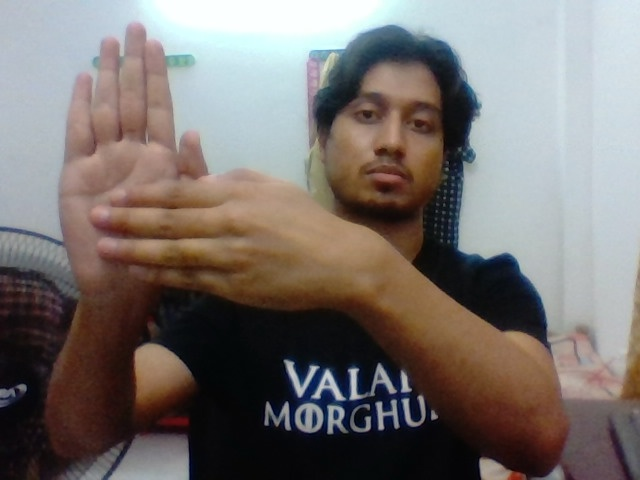H: (35, 12, 292, 324)
